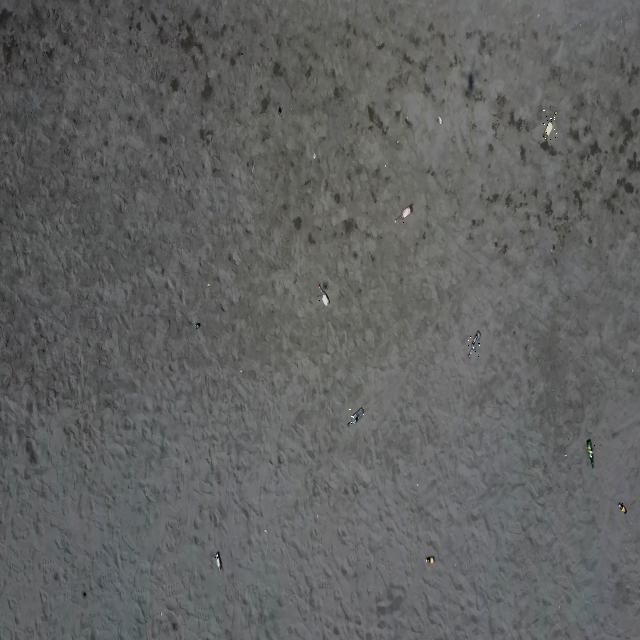glass: (542, 110, 558, 140), (466, 333, 480, 357), (346, 409, 364, 427), (394, 205, 412, 223), (586, 441, 595, 468), (318, 284, 329, 306), (215, 553, 222, 571), (619, 503, 627, 514), (425, 557, 435, 564), (195, 324, 200, 328)
